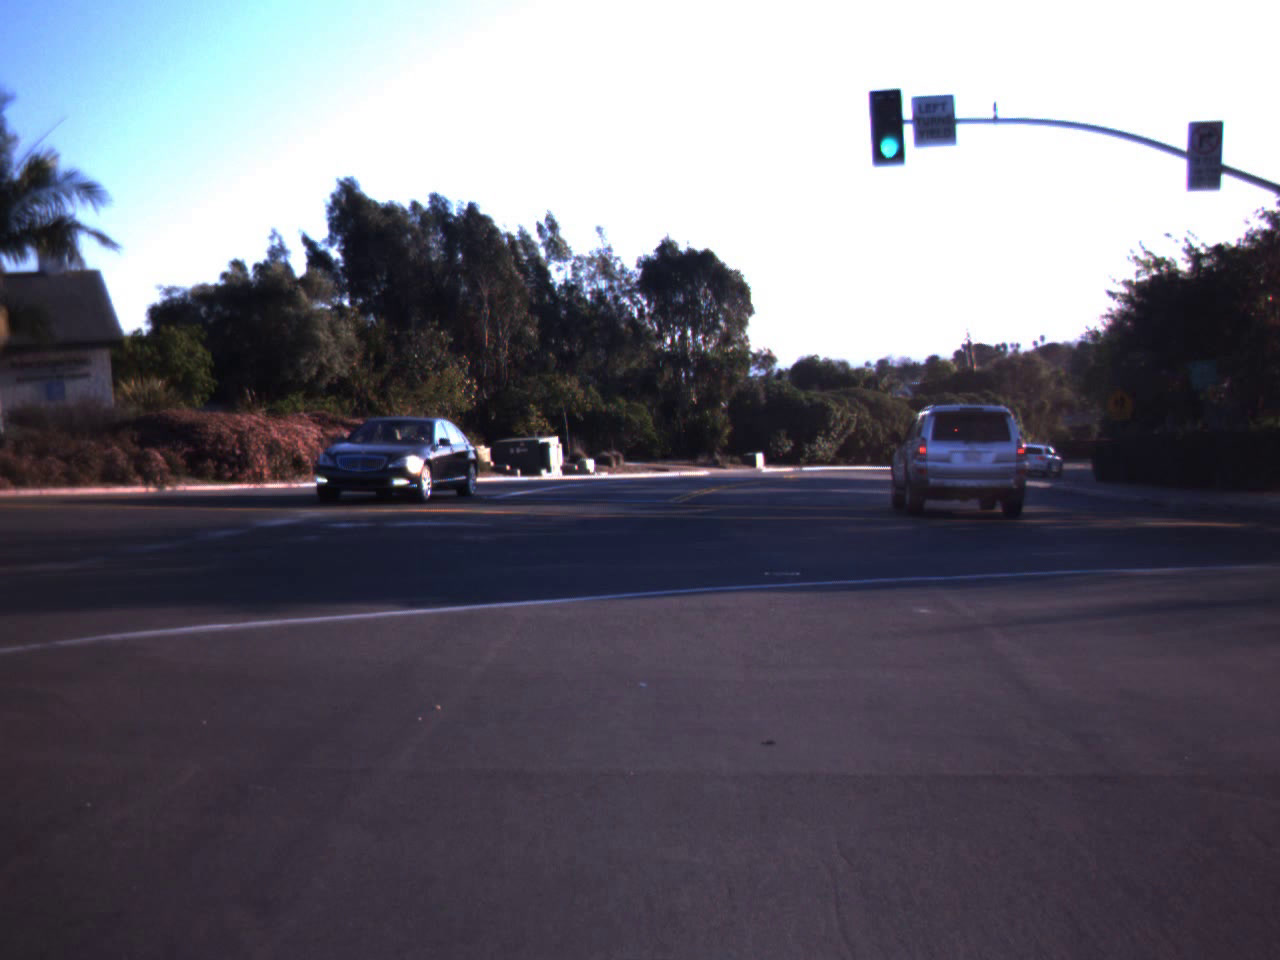go: (865, 76, 913, 166)
